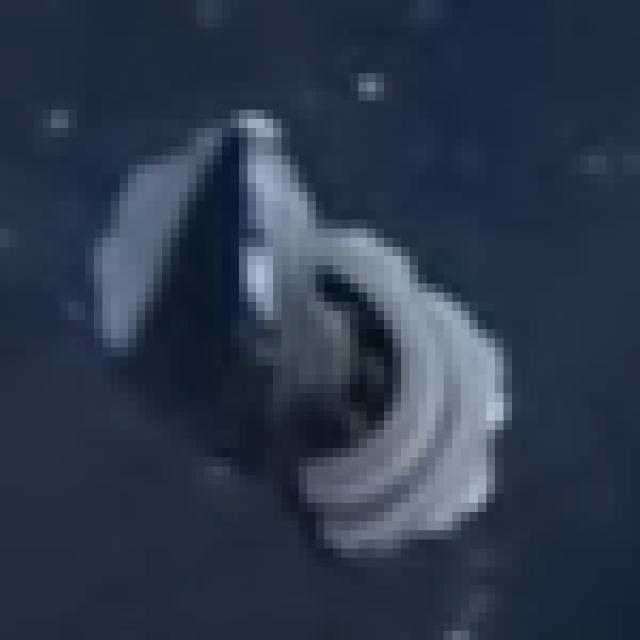large_debris: (66, 71, 530, 575)
